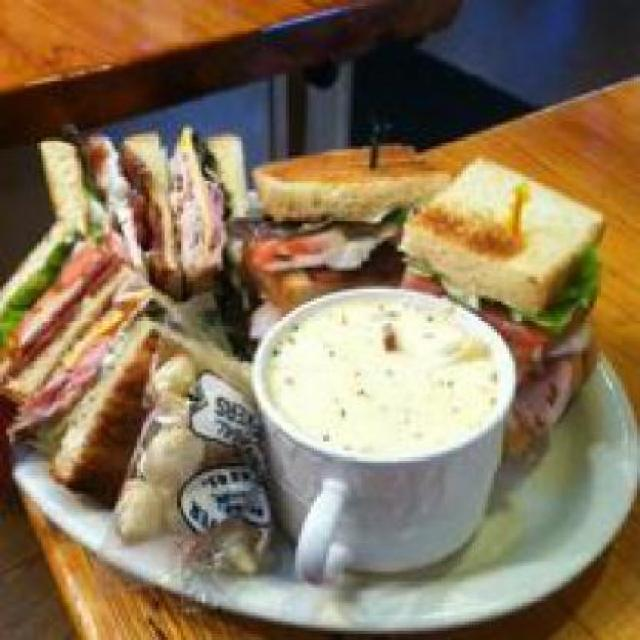clam chowder: (248, 280, 520, 558)
club sandwich: (6, 87, 600, 535)
